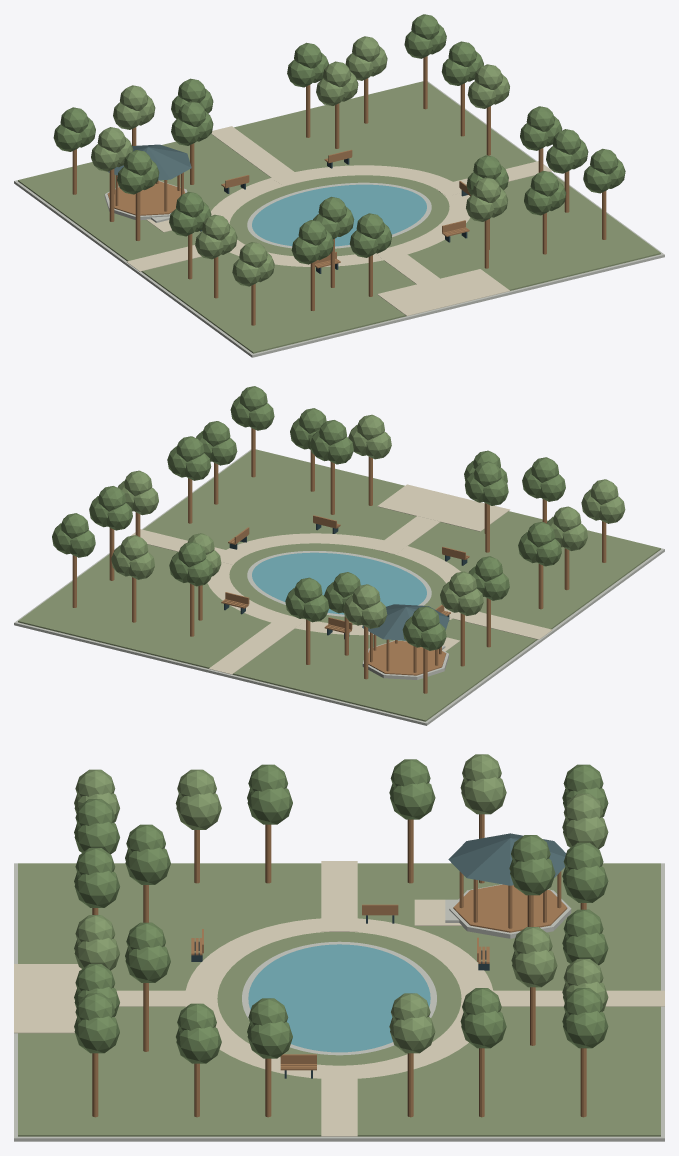
The model's file is park-large-8x8.glb.
3 renders of one model, top to bottom at view 1: azimuth 30°, elevation 25°; view 2: azimuth 150°, elevation 25°; view 3: azimuth 270°, elevation 25°, orthographic. The views are drawn at different scales.
Visible parts, largest first — view 1: ContinuousLawn, ShallowPondSurface, LoopWalk, ContinuousSolidLotBase, FrontEntryPlaza, FrontRearEntranceWalk.001, GazeboDeck, GazeboRoof, FrontRearEntranceWalk, PondStoneEdge, SideEntranceWalk, SideEntranceWalk.001 (+44 smaller); view 2: ContinuousLawn, ShallowPondSurface, LoopWalk, ContinuousSolidLotBase, FrontEntryPlaza, FrontRearEntranceWalk.001, GazeboDeck, GazeboRoof, SideEntranceWalk, FrontRearEntranceWalk, PondStoneEdge, SideEntranceWalk.001 (+43 smaller); view 3: ContinuousLawn, ShallowPondSurface, LoopWalk, ContinuousSolidLotBase, FrontEntryPlaza, GazeboDeck, GazeboRoof, SideEntranceWalk.001, SideEntranceWalk, FrontRearEntranceWalk.001, PondStoneEdge, FrontRearEntranceWalk (+46 smaller).
Part boxes in pixels (x1,y1,x2,y2): ContinuousLawn: [18, 81, 660, 353]; ShallowPondSurface: [252, 184, 426, 246]; LoopWalk: [211, 165, 470, 266]; ContinuousSolidLotBase: [14, 81, 664, 357]; FrontEntryPlaza: [377, 269, 509, 316]; FrontRearEntranceWalk.001: [211, 126, 305, 186]; GazeboDeck: [107, 181, 184, 215]; GazeboRoof: [108, 144, 191, 180]; FrontRearEntranceWalk: [375, 246, 469, 306]; PondStoneEdge: [247, 182, 431, 248]; SideEntranceWalk: [126, 239, 244, 271]; SideEntranceWalk.001: [434, 161, 552, 196]; ContinuousLawn: [18, 449, 660, 721]; ShallowPondSurface: [252, 552, 426, 614]; LoopWalk: [207, 533, 460, 635]; ContinuousSolidLotBase: [14, 449, 664, 725]; FrontEntryPlaza: [377, 484, 509, 531]; FrontRearEntranceWalk.001: [209, 614, 305, 674]; GazeboDeck: [368, 641, 446, 675]; GazeboRoof: [362, 604, 449, 640]; SideEntranceWalk: [444, 607, 552, 639]; FrontRearEntranceWalk: [373, 516, 439, 554]; PondStoneEdge: [247, 551, 431, 616]; SideEntranceWalk.001: [131, 529, 245, 564]; ContinuousLawn: [18, 863, 660, 1136]; ShallowPondSurface: [248, 944, 430, 1052]; LoopWalk: [185, 918, 493, 1078]; ContinuousSolidLotBase: [14, 863, 664, 1141]; FrontEntryPlaza: [14, 964, 81, 1033]; GazeboDeck: [453, 884, 567, 932]; GazeboRoof: [448, 833, 566, 885]; SideEntranceWalk.001: [321, 1065, 357, 1136]; SideEntranceWalk: [321, 861, 357, 931]; FrontRearEntranceWalk.001: [461, 990, 664, 1006]; PondStoneEdge: [242, 941, 436, 1055]; FrontRearEntranceWalk: [116, 990, 217, 1006].
Bounding box in the file's own units: 32 × 7.17 × 32.
